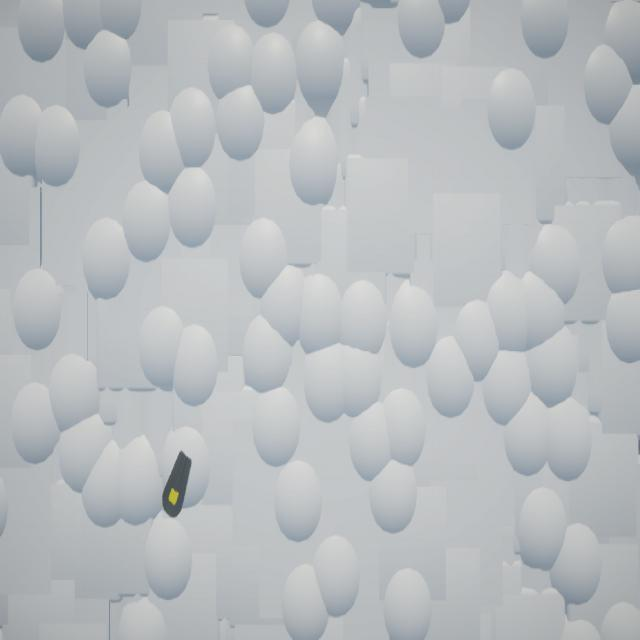handle_folk: (163, 451, 193, 520)
